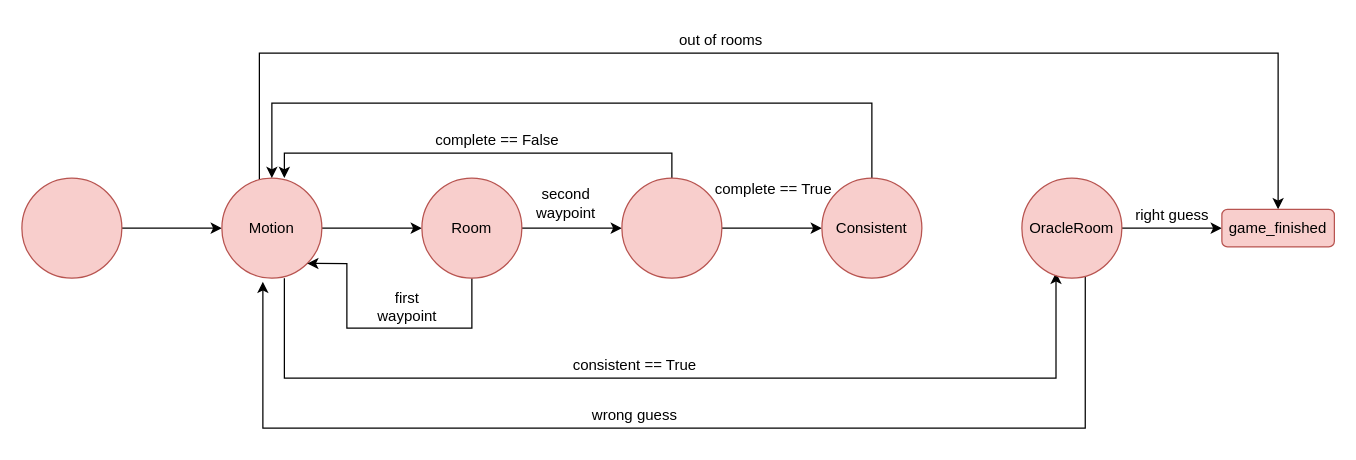
Some shapes in this 1356 by 460 pixel diagram are drawn without their labels. The shapes that lost their labels are listed below. From the top down, each one's centre as x and y in pixels, then its label:
(x=71, y=227): StartGame
(x=671, y=227): Complete
